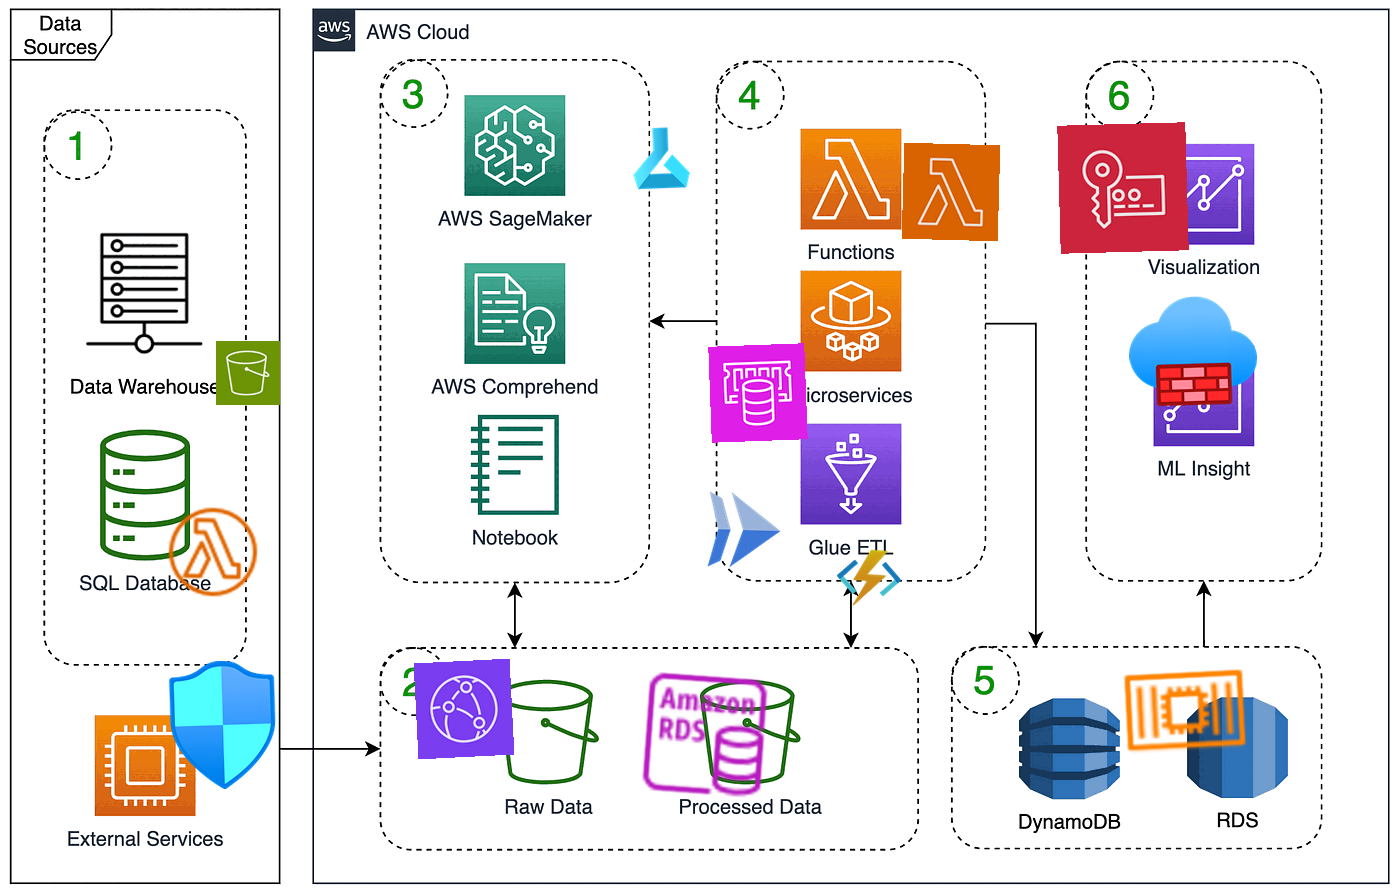aws_amazon_cloudfront: (413, 658, 515, 760)
aws_amazon_elasticache: (708, 343, 808, 443)
aws_amazon_simple_storage_service: (215, 340, 281, 406)
aws_aurora_amazon_rds_instance: (636, 666, 774, 804)
aws_elastic_container_service_container_2: (1117, 642, 1253, 778)
aws_key_management_service: (1057, 122, 1189, 254)
aws_lambda: (901, 142, 1001, 242)
aws_lambda_lambda_function: (163, 502, 263, 602)
azure_firewalls: (1127, 285, 1259, 417)
azure_function_apps: (834, 543, 904, 613)
azure_machine_learning: (627, 125, 695, 192)
azure_network_security_groups: (157, 659, 289, 791)
gcp_cloud_run: (693, 480, 793, 580)
